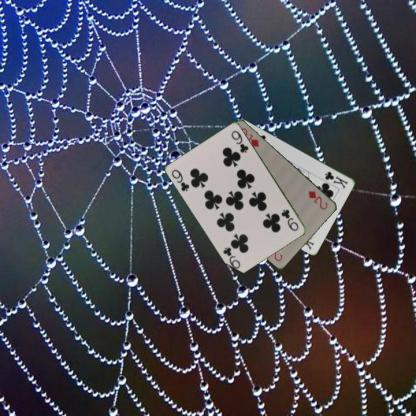2d: (306, 188, 329, 211)
9c: (169, 167, 191, 193), (278, 207, 300, 232)
Kc: (322, 169, 349, 190)
